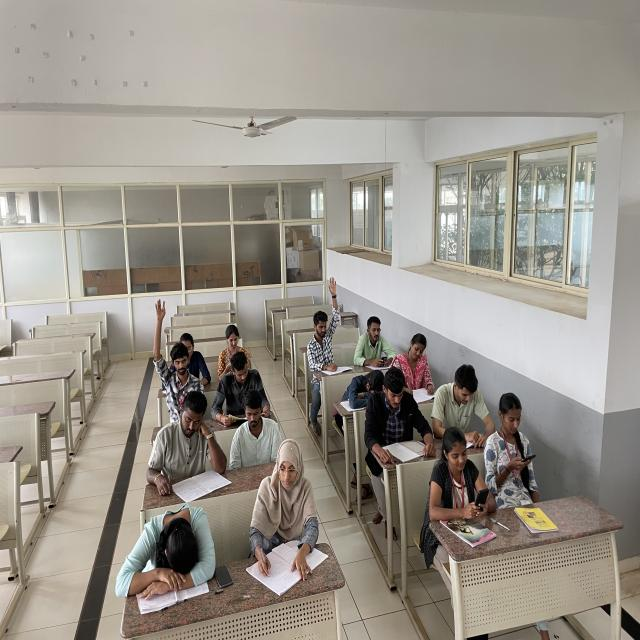Hand Rising: (143, 298, 200, 411), (304, 275, 348, 379)
Reading: (363, 363, 437, 469), (432, 363, 494, 452), (210, 350, 268, 424)
Sleeping: (113, 500, 228, 617), (334, 367, 388, 425)
Using Phone: (424, 425, 498, 527), (482, 390, 543, 501), (352, 314, 402, 372)
Writing: (245, 435, 330, 590), (138, 391, 226, 500), (396, 330, 438, 402)
